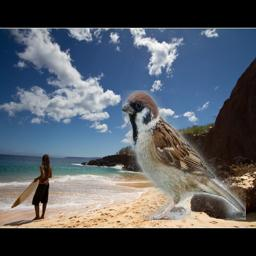Sparrow: (122, 90, 246, 220)
